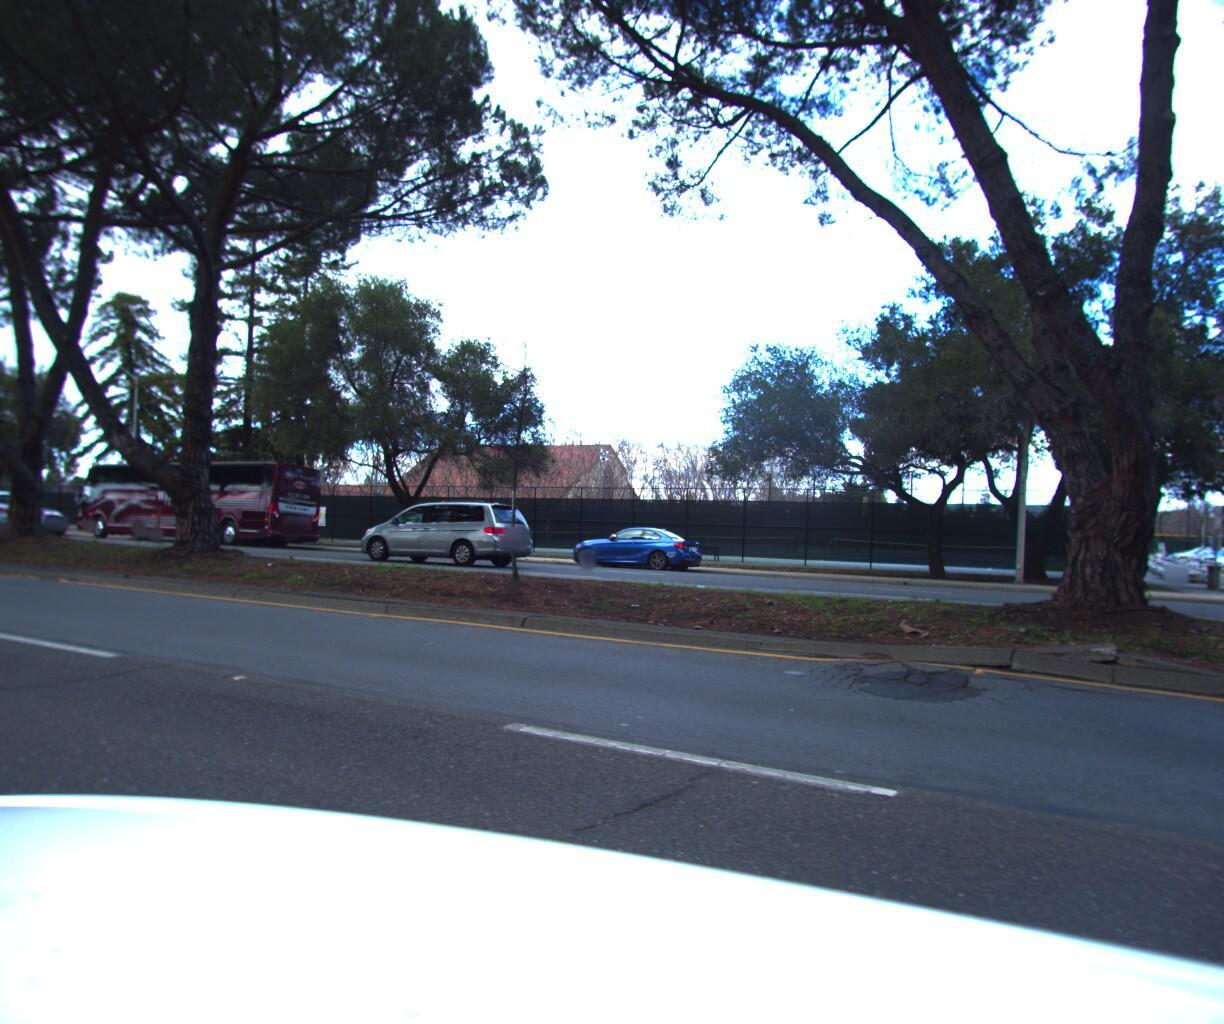bus: (66, 451, 333, 547)
car: (354, 488, 543, 563), (561, 519, 713, 575), (0, 486, 48, 540), (0, 500, 71, 533)
